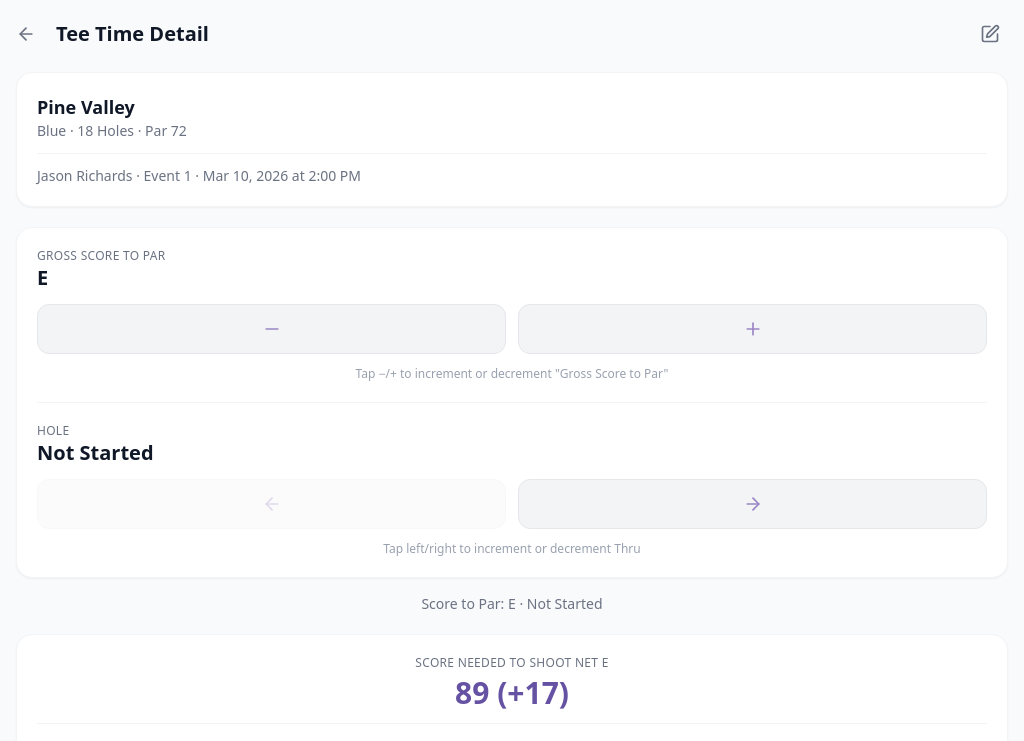
Test: Score Detail Page - Course/Tee Change › filters courses by search text
The width and height of the screenshot is (1024, 741).
Check: the text "Pine Valley" is shown, box [37,95,135,119]
Click the 2nd button at (990, 34), box [972,16,1008,52]
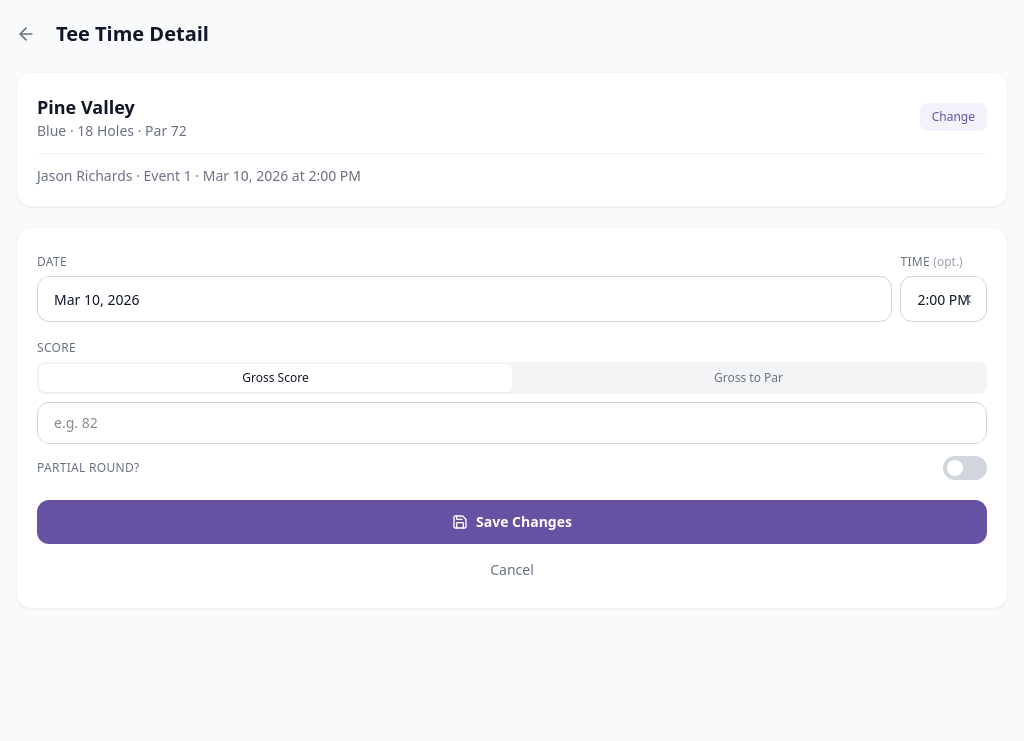
Click the button "Change" at (953, 117), box [920,103,987,131]
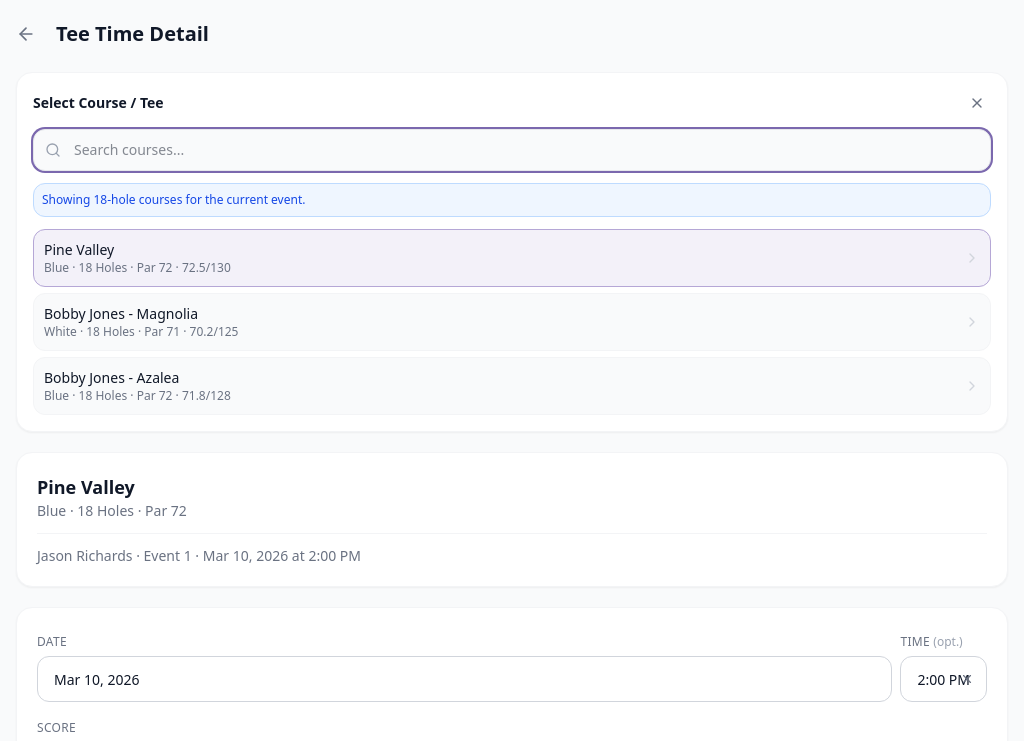
Type "Magnolia" into the field with placeholder "Search courses..." at (512, 150), box [33,129,991,171]
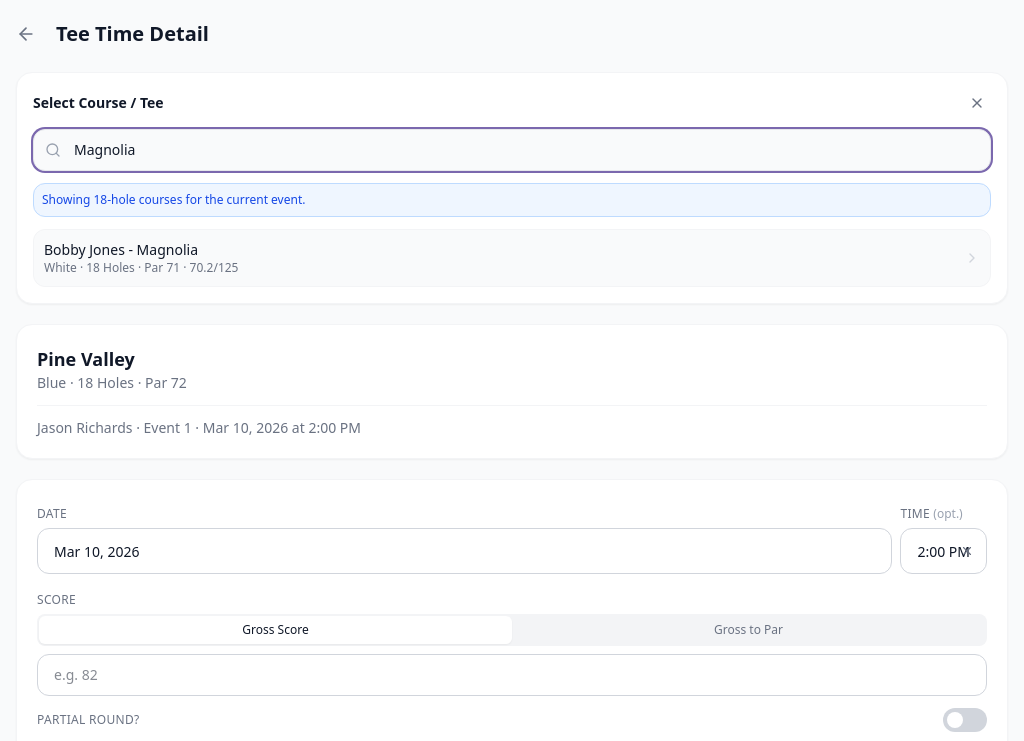
Check: the text "Bobby Jones - Magnolia" is shown, box [44,240,198,259]
Check: the button "Bobby Jones - Azalea" is gone
